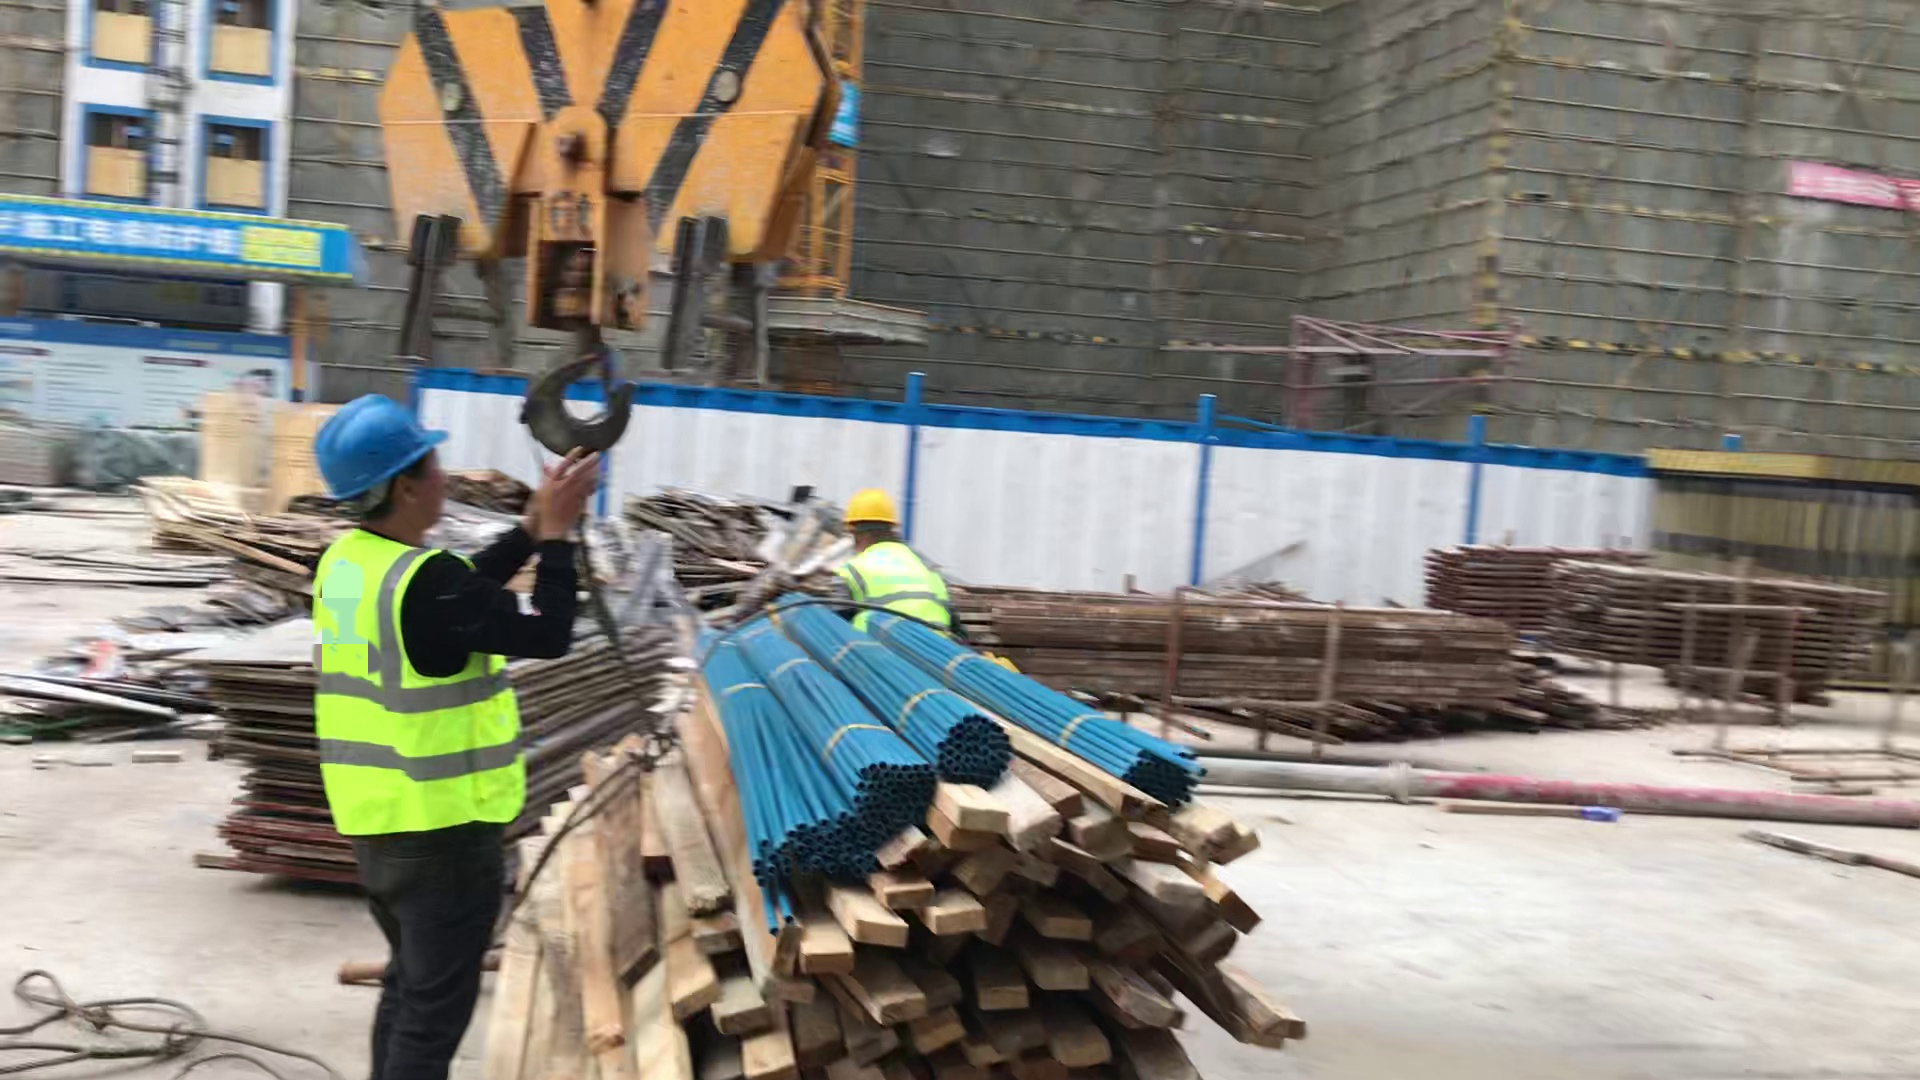board: (176, 587, 681, 908)
helmet: (312, 384, 475, 500), (833, 476, 920, 537)
hook: (333, 5, 933, 501)
person: (263, 383, 636, 1080), (821, 477, 983, 657)
scaffold: (1411, 519, 1895, 703)
slogan: (1, 304, 298, 457), (2, 188, 369, 292), (1784, 155, 1920, 228), (823, 59, 877, 166)
vest: (293, 528, 541, 843), (826, 537, 970, 632)
wood: (449, 591, 1376, 1080)
